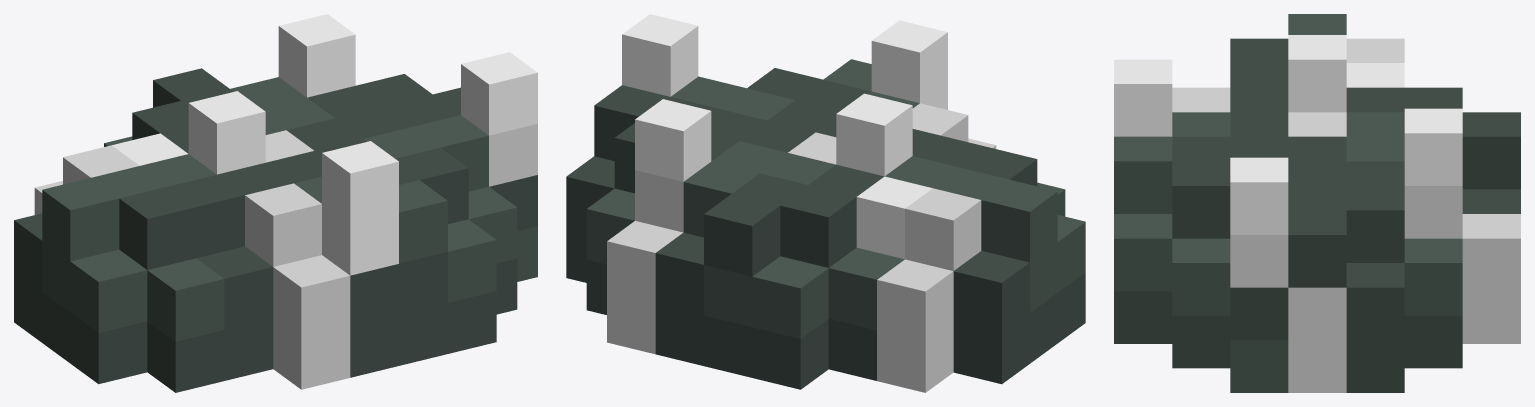
The model's file is CrystalDeposit_S.obj.
3 views of the same model, side by side, from view 1: azimuth 30°, elevation 25°; view 2: azimuth 150°, elevation 25°; view 3: azimuth 270°, elevation 25° (orthographic). The views are drawn at different scales.
Parts seen in each view (by area): view 1: CrystalDeposit_S; view 2: CrystalDeposit_S; view 3: CrystalDeposit_S.
Part boxes in pixels (x1,y1,x2,y2): CrystalDeposit_S: (14, 14, 537, 392); CrystalDeposit_S: (566, 14, 1085, 392); CrystalDeposit_S: (1114, 14, 1520, 392).
Bounding box in the file's own units: 0.9 × 0.4 × 0.7.
1 material, 1 textured.
